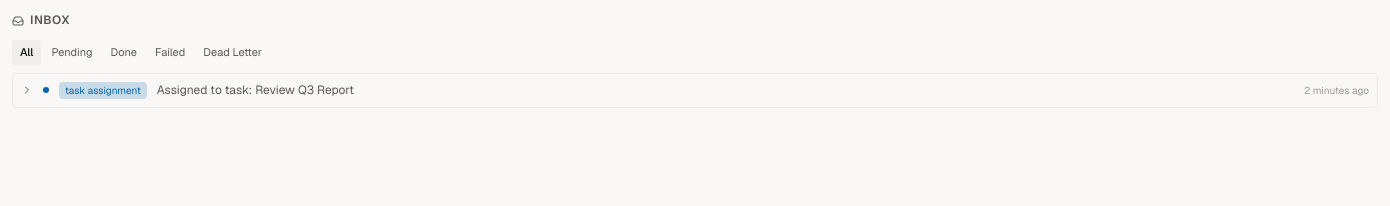
Test: InboxSection › expands context on click
Click the button "Assigned to task: Review Q3 Report" at (103, 90), box [13, 74, 1377, 106]
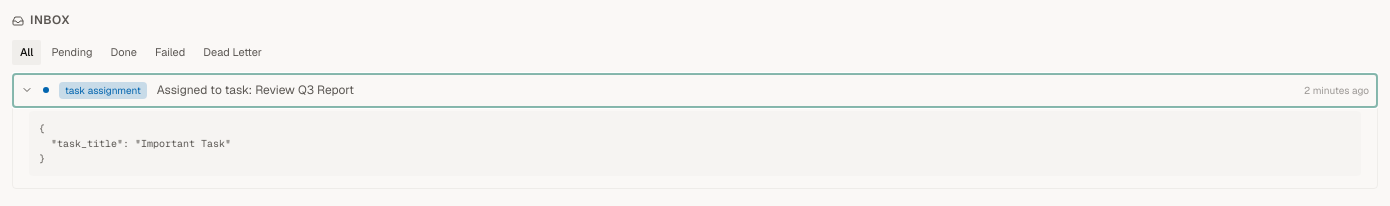
Check: the text "{ \"task_title\": \"Important Task\" }" is shown, box [29, 110, 1361, 176]
